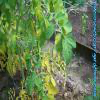Tomato leaf yellow virus: (61, 32, 77, 68), (36, 17, 49, 49), (24, 70, 38, 96), (52, 31, 64, 54), (10, 33, 18, 56), (61, 19, 72, 32)
